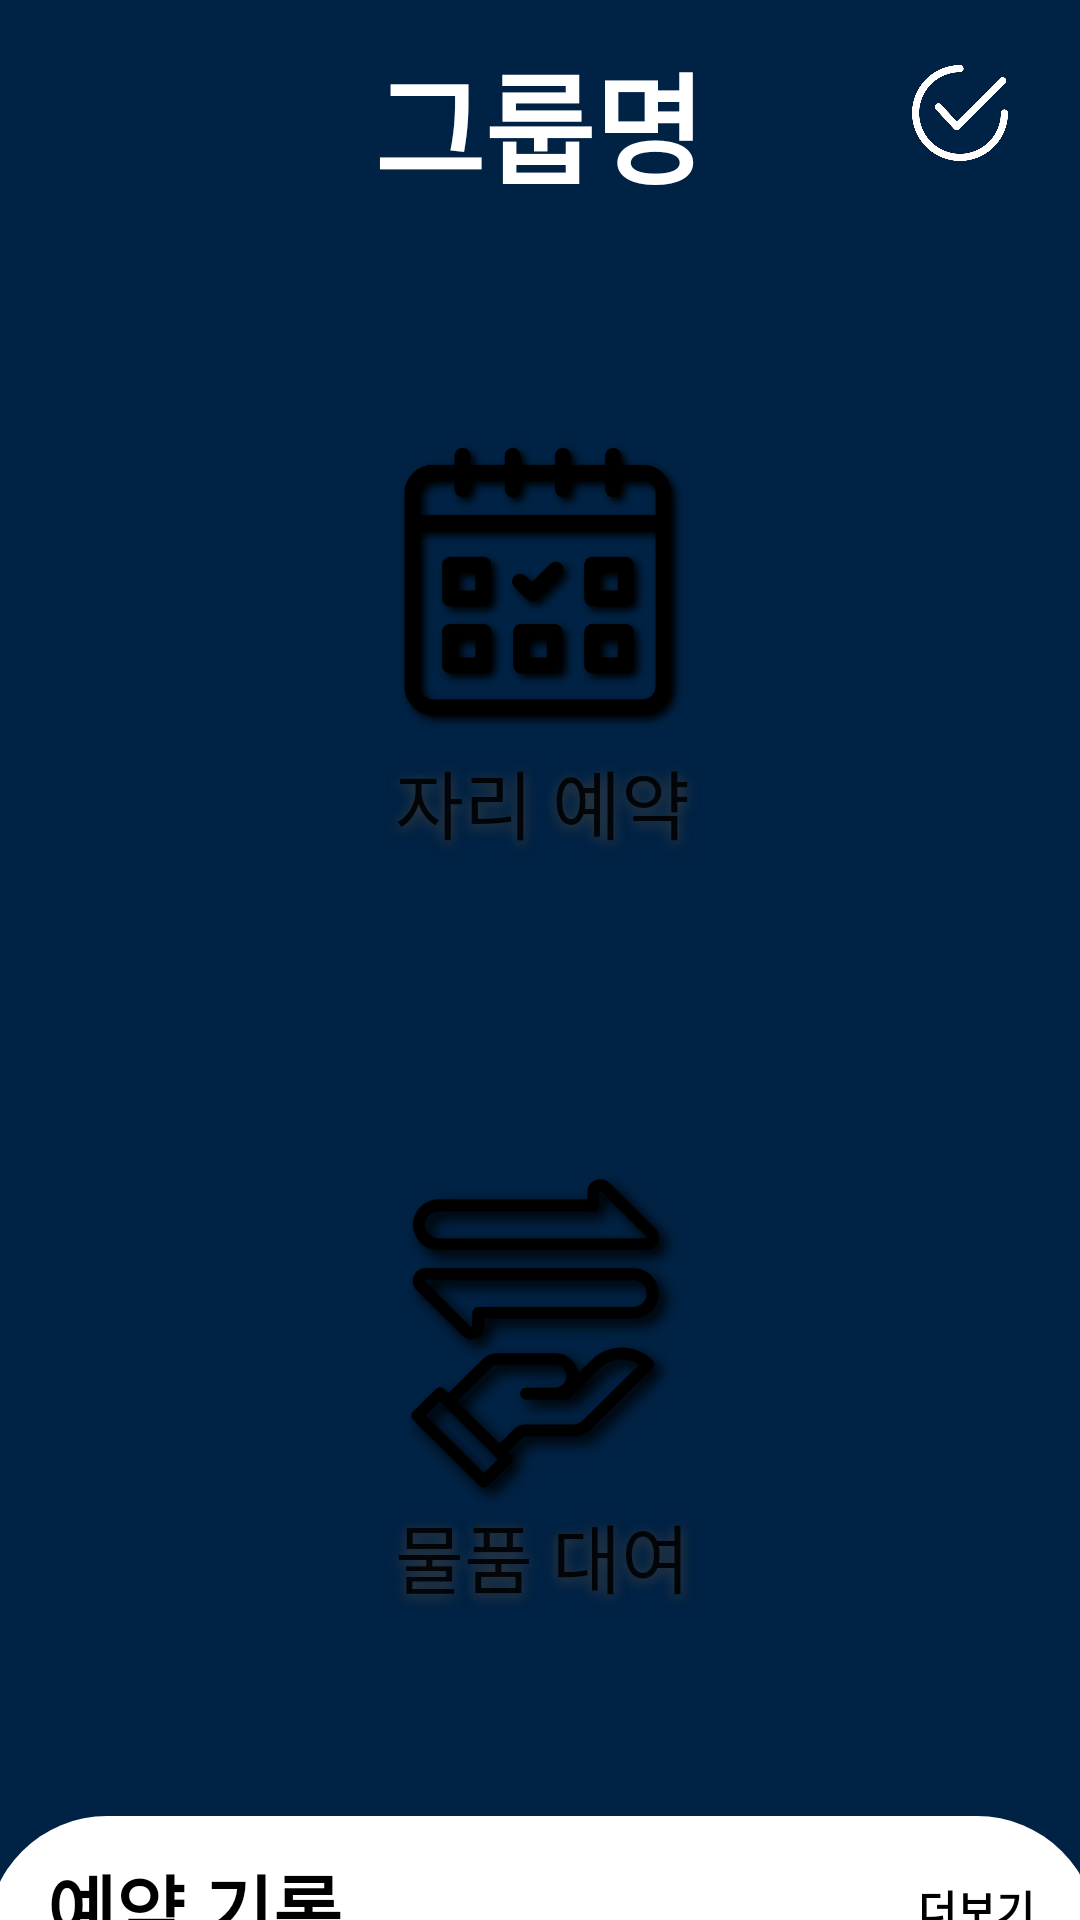

Named icons in this screenshot (1080x1920) and their bounding boxes, detection(x1, y1, x2, y2):
checked: detection(912, 65, 1008, 161)
